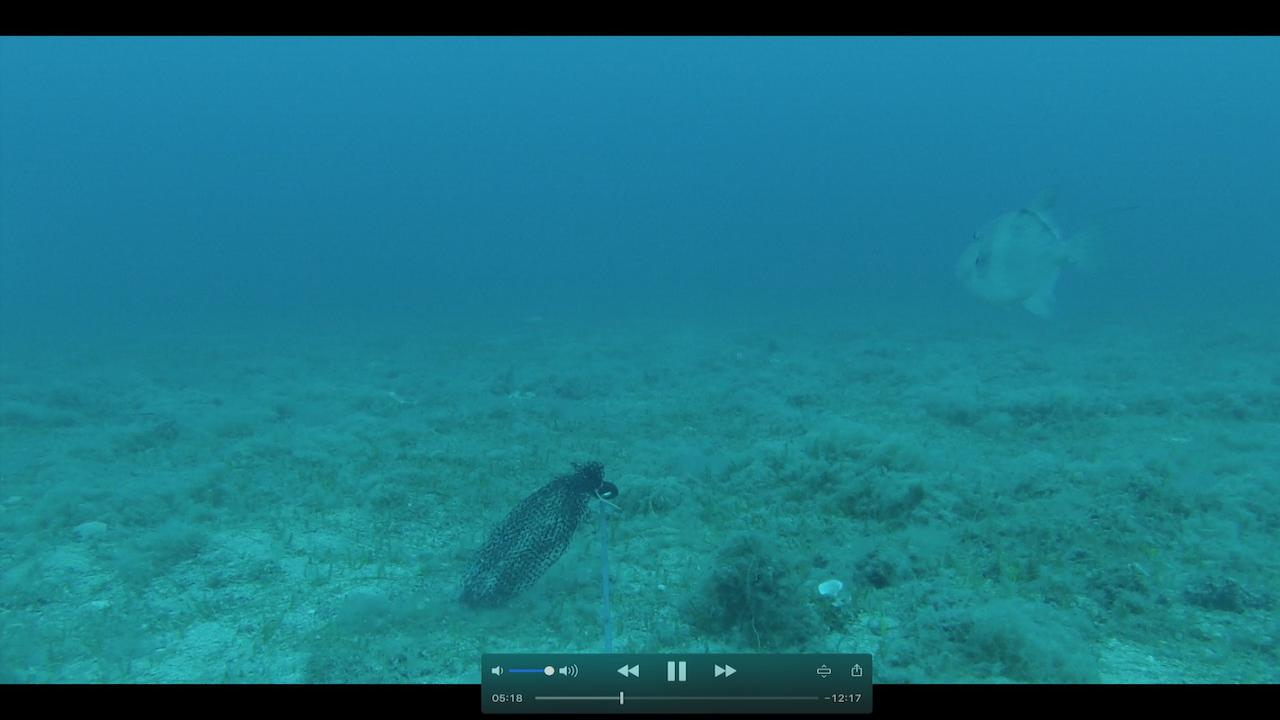balistes: (943, 178, 1150, 330)
